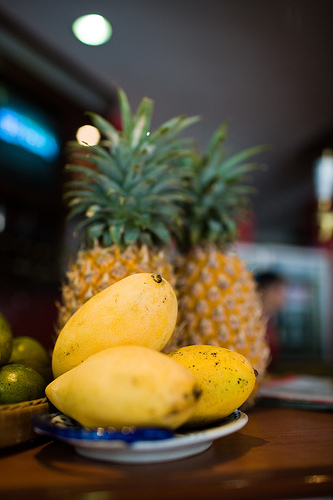pineapple: (61, 87, 201, 352), (176, 132, 266, 387)
